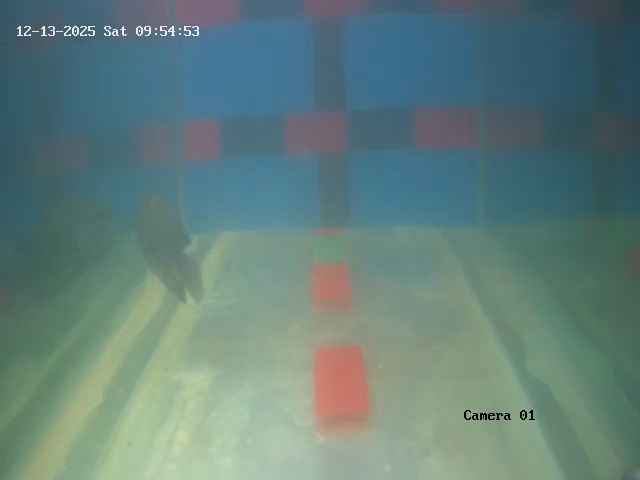fish: (122, 184, 219, 313)
